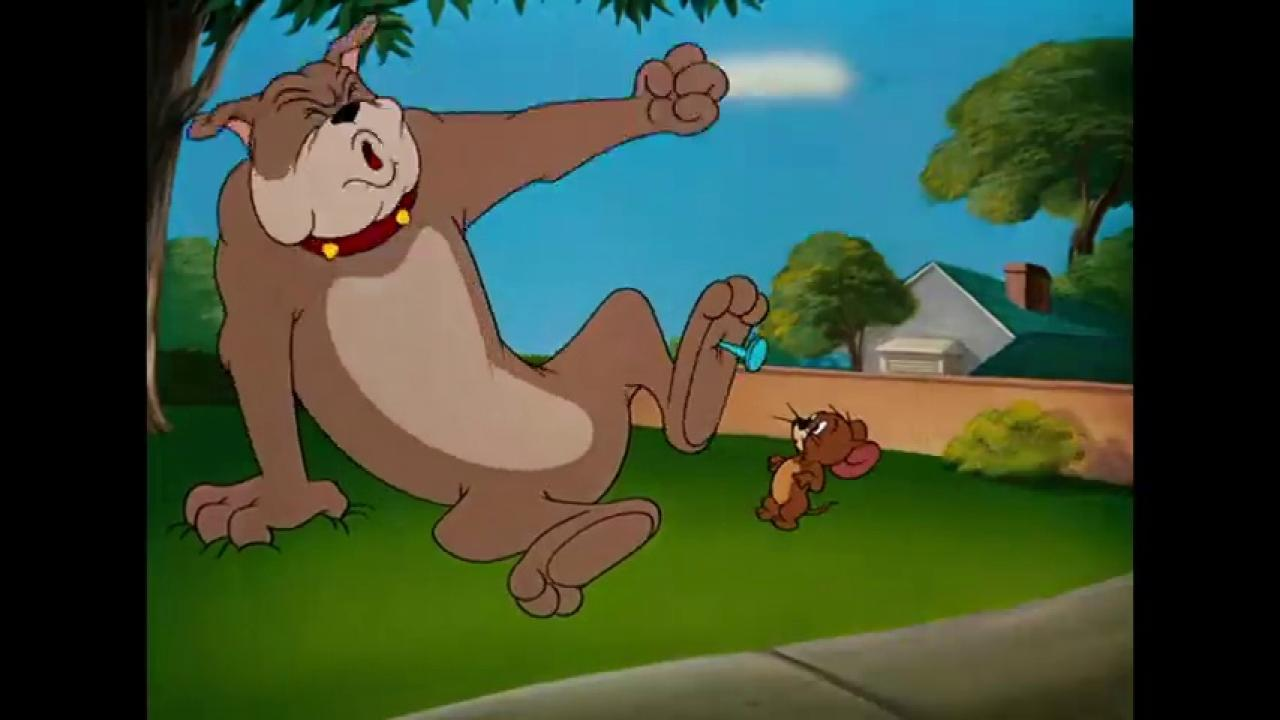Jerry: (754, 401, 884, 535)
